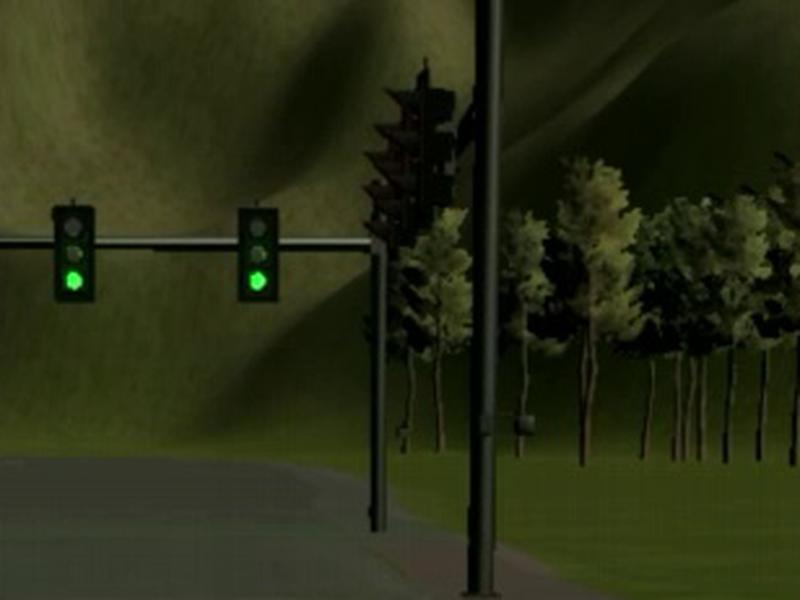Green: (55, 206, 95, 301), (239, 208, 277, 302)
